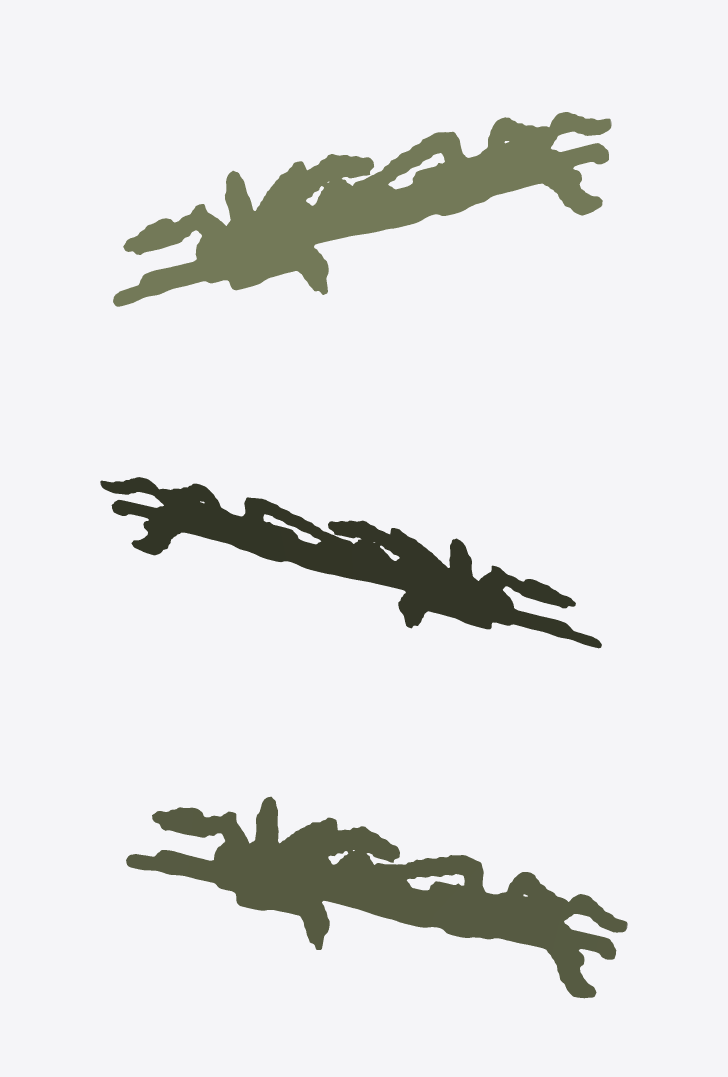
Rendered from SM_Grass_02.fbx.
3 views of the same model, one above another, from view 1: azimuth 30°, elevation 25°; view 2: azimuth 150°, elevation 25°; view 3: azimuth 330°, elevation 25° (orthographic). The views are drawn at different scales.
Visible parts, largest first — view 1: SM_Grass_02; view 2: SM_Grass_02; view 3: SM_Grass_02.
Boxes of the visible parts, <box> form: SM_Grass_02: <box>113,112,611,306</box>; SM_Grass_02: <box>100,477,601,648</box>; SM_Grass_02: <box>126,796,627,998</box>.
Size of the model in its own units: 73.02 by 22.45 by 6.96.
1 material, 1 textured.
